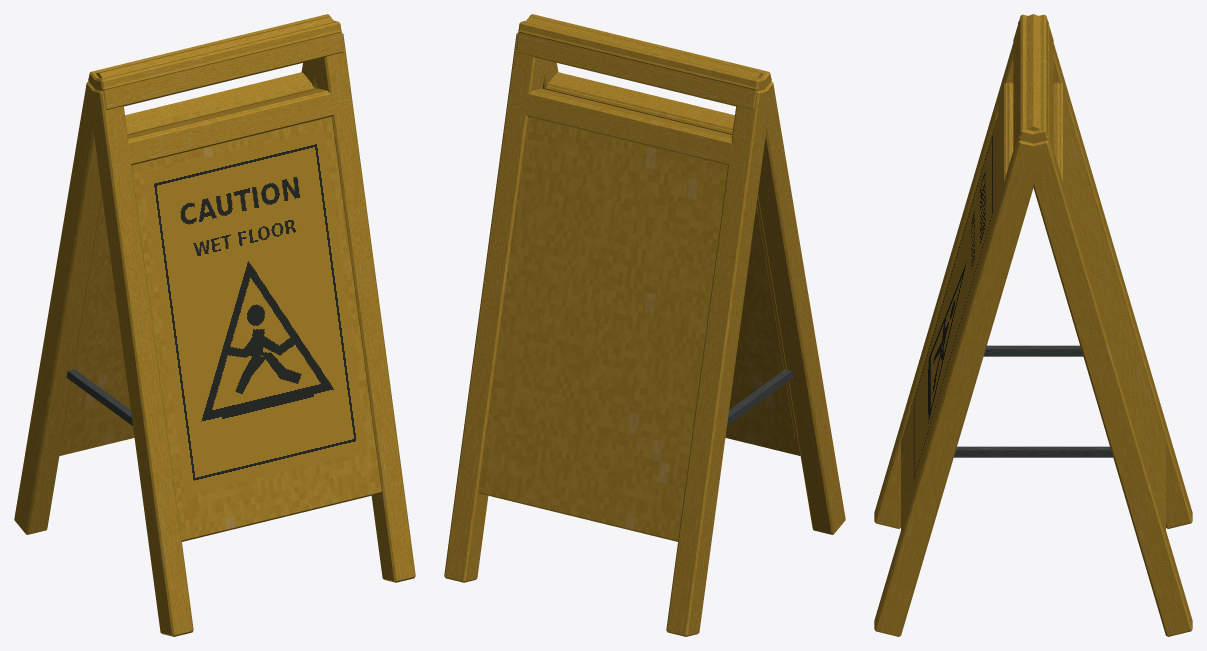
File: wet_floor_sign.glb
The picture shows the model from 3 angles, left to right: view 1: azimuth 30°, elevation 25°; view 2: azimuth 150°, elevation 25°; view 3: azimuth 270°, elevation 25°; orthographic projection.
Visible parts, largest first — view 1: wet_floor_sign; view 2: wet_floor_sign; view 3: wet_floor_sign.
Boxes of the visible parts, bbox=[...] form: wet_floor_sign: bbox=[14, 14, 415, 636]; wet_floor_sign: bbox=[444, 14, 845, 636]; wet_floor_sign: bbox=[874, 14, 1192, 636].
Size of the model in its own units: 0.305 by 0.6104 by 0.3463.
Materials: 3 (3 with a texture image).
